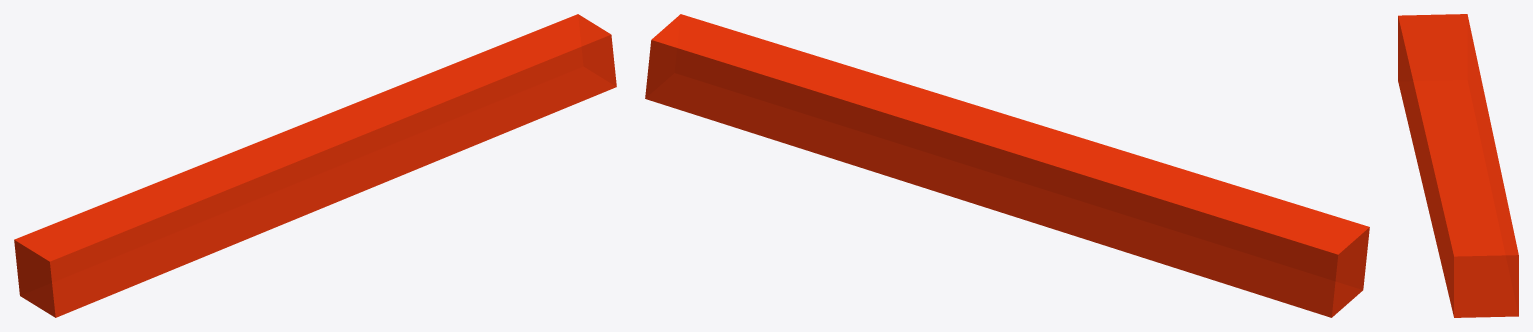
The model's file is Event_420094457_EErechit_26.fbx.
The picture shows the model from 3 angles, left to right: view 1: azimuth 30°, elevation 25°; view 2: azimuth 150°, elevation 25°; view 3: azimuth 270°, elevation 25°; orthographic projection. The views are drawn at different scales.
Visible parts, largest first — view 1: Model; view 2: Model; view 3: Model.
Part boxes in pixels (left/top/right/bottom): Model: left=14, top=14, right=616, bottom=317; Model: left=645, top=14, right=1369, bottom=317; Model: left=1398, top=14, right=1518, bottom=317.
Size of the model in its own units: 0.8372 by 0.1651 by 0.135.
